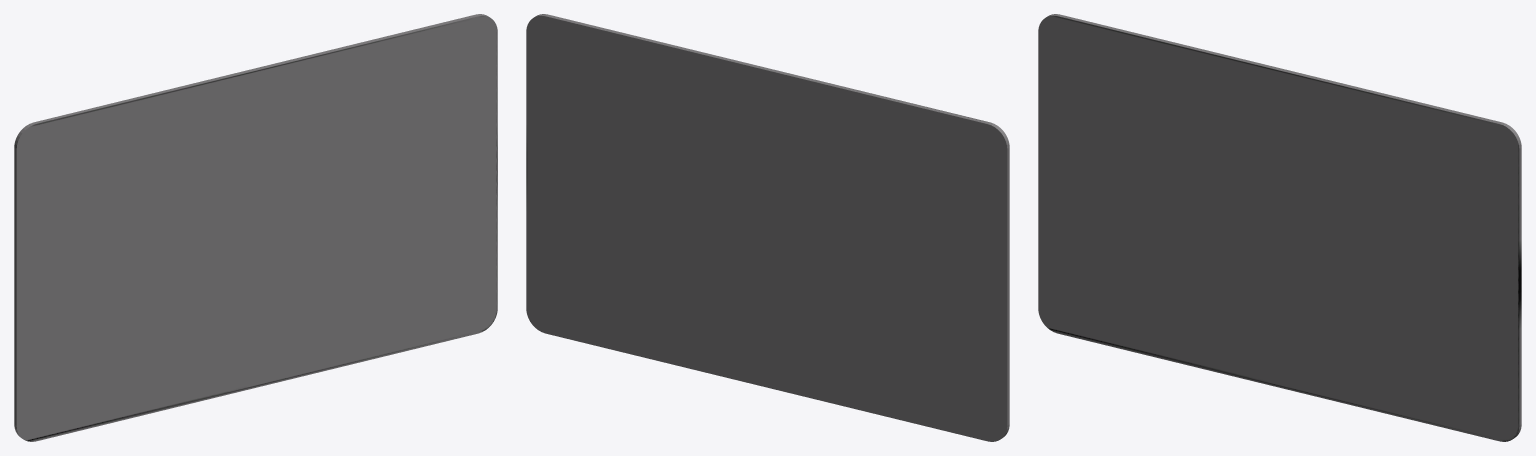
The model's file is blank-card.glb.
3 views of the same model, side by side, from view 1: azimuth 30°, elevation 25°; view 2: azimuth 150°, elevation 25°; view 3: azimuth 330°, elevation 25° (orthographic).
Parts seen in each view (by area): view 1: node_id5; view 2: node_id5; view 3: node_id5.
Boxes of the visible parts, x1,y1,x2,y2 form: node_id5: (14,14,497,441); node_id5: (526,14,1009,441); node_id5: (1038,14,1521,441).
Bounding box in the file's own units: 0.4706 × 0.2966 × 0.00418.
2 materials, 2 textured.
